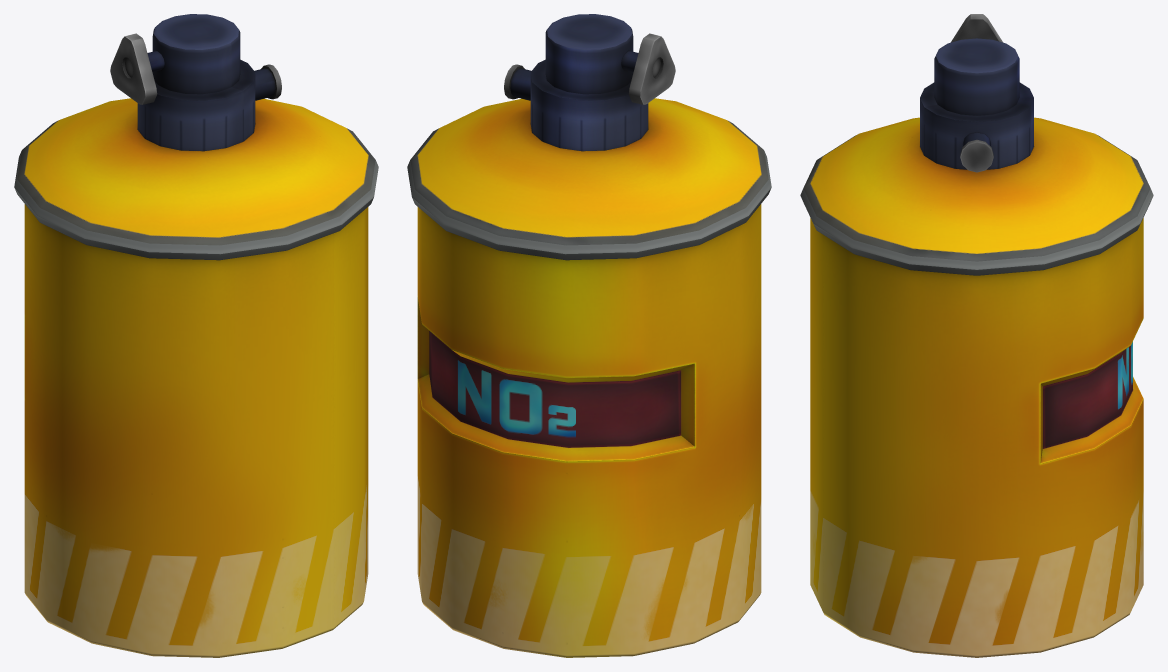
The model's file is Nitro.fbx.
The picture shows the model from 3 angles, left to right: view 1: azimuth 30°, elevation 25°; view 2: azimuth 150°, elevation 25°; view 3: azimuth 270°, elevation 25°; orthographic projection. The views are drawn at different scales.
Parts seen in each view (by area): view 1: Nitro; view 2: Nitro; view 3: Nitro.
Part boxes in pixels (box(x1,y1,x2,y2)): Nitro: box(14, 14, 378, 657); Nitro: box(407, 14, 771, 657); Nitro: box(800, 14, 1153, 657).
Bounding box in the file's own units: 0.0826 × 0.1401 × 0.0826.
